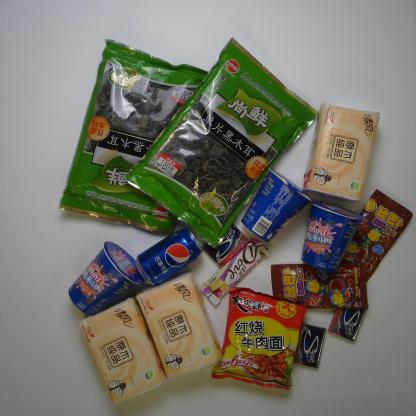Candy: (339, 187, 414, 285), (268, 259, 372, 317)
Chocolate: (194, 235, 274, 309)
Dessert: (230, 166, 313, 249), (66, 240, 146, 318), (299, 199, 360, 273)
Dried Food: (124, 35, 319, 251), (54, 37, 209, 236)
Drink: (133, 226, 196, 287)
Gum: (199, 219, 255, 270), (292, 321, 334, 372), (326, 296, 370, 344)
Instant Noodles: (209, 282, 309, 392)
Tissue: (130, 270, 229, 380), (76, 295, 166, 403), (302, 101, 385, 206)
